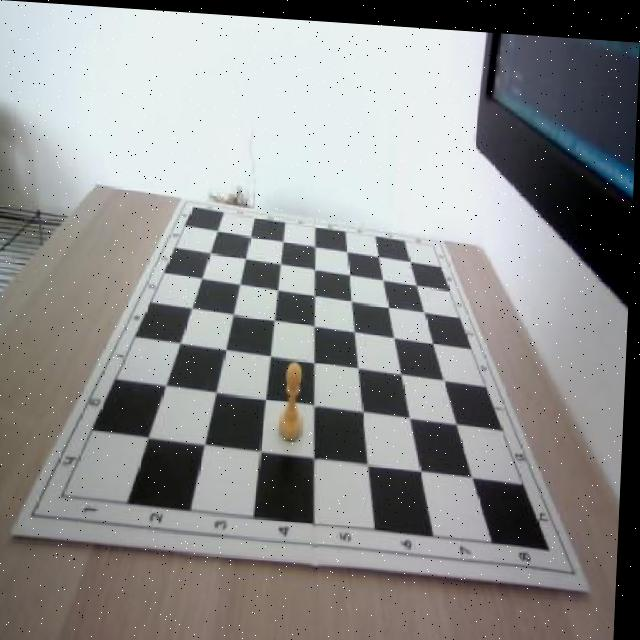white-knight: (282, 357, 310, 441)
